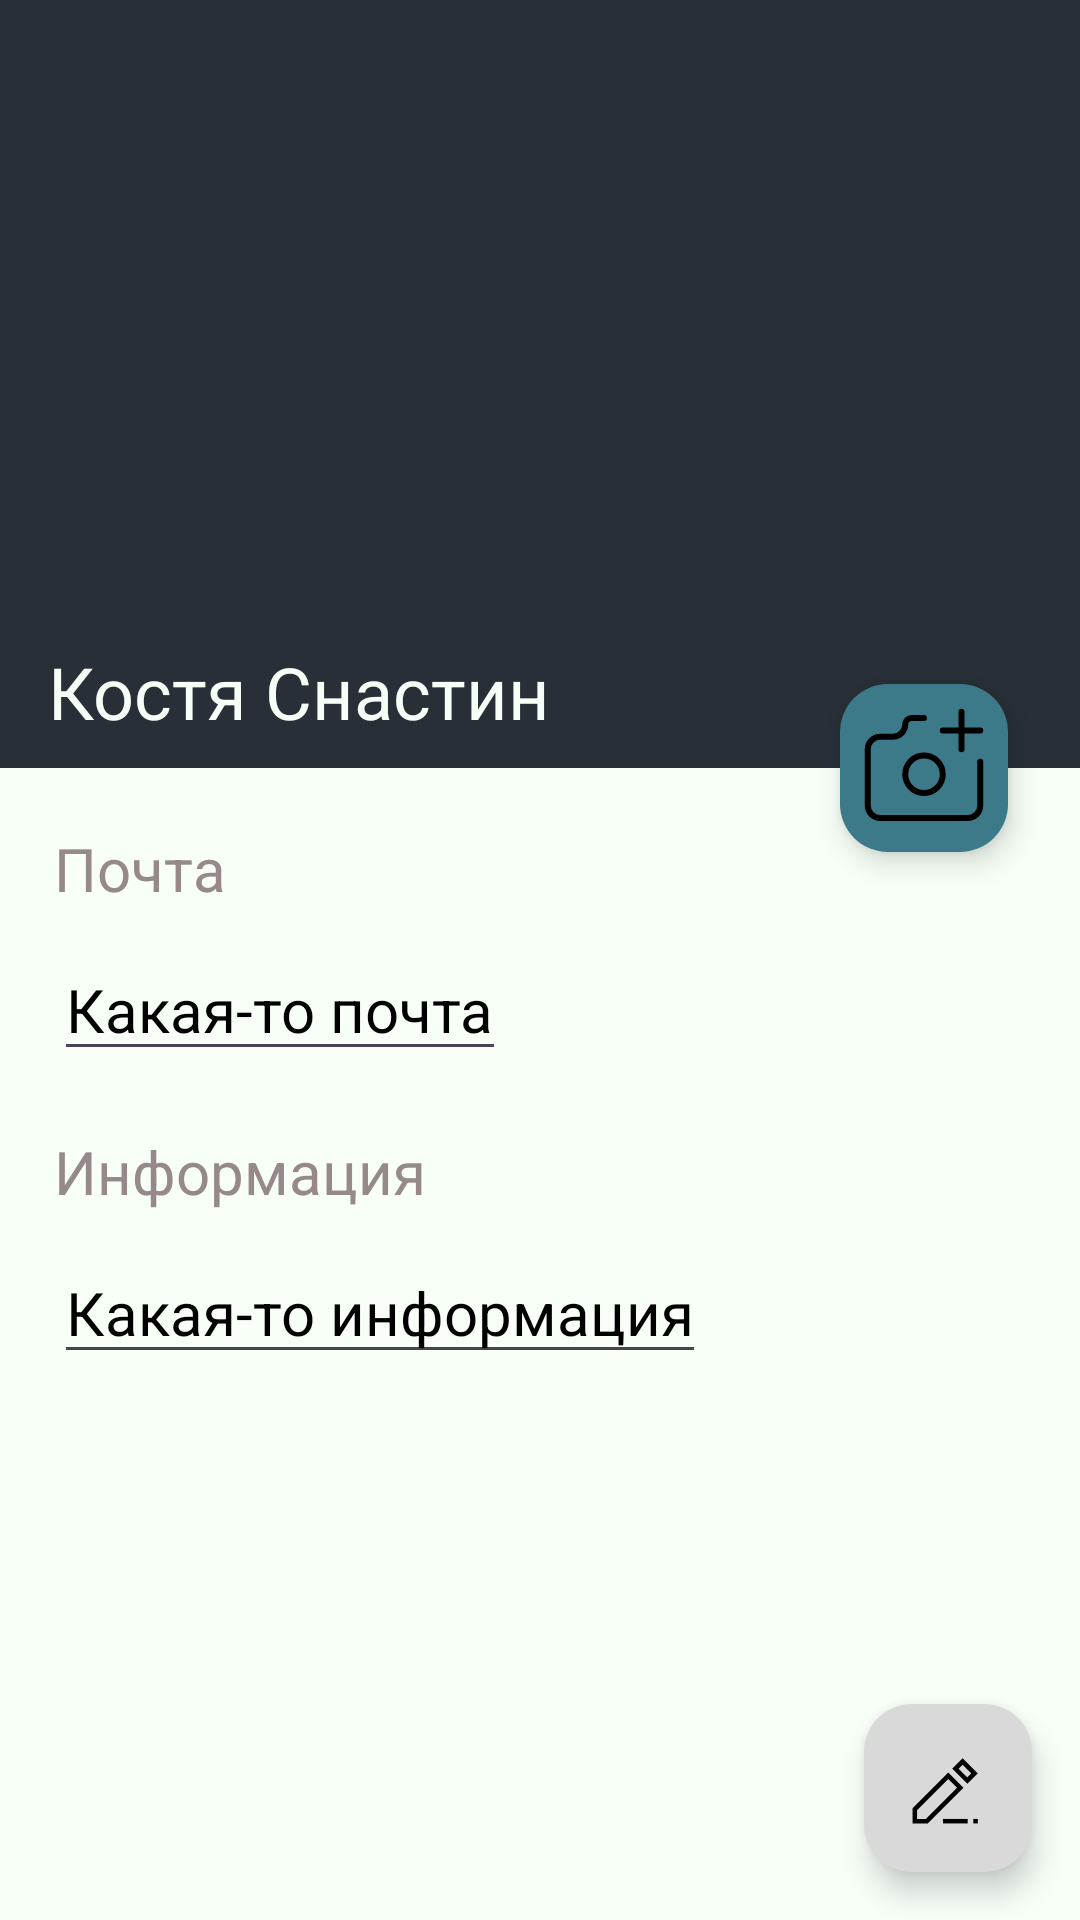

Named icons in this screenshot (1080 x 1920) and their centers, [x,y]:
add photo: [924,768]
edit: [948,1788]
